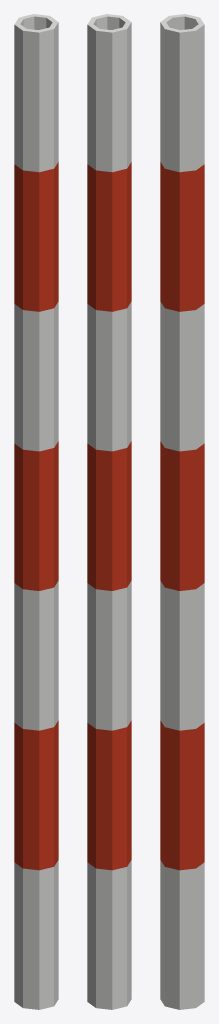
File: SM_Cook_Straw_01.fbx
3 renders of one model, left to right at view 1: azimuth 30°, elevation 25°; view 2: azimuth 210°, elevation 25°; view 3: azimuth 330°, elevation 25°, orthographic.
Parts seen in each view (by area): view 1: SM_Cook_Straw_01; view 2: SM_Cook_Straw_01; view 3: SM_Cook_Straw_01.
Part boxes in pixels (x1,y1,x2,y2): SM_Cook_Straw_01: (14,14,58,1009); SM_Cook_Straw_01: (87,14,131,1009); SM_Cook_Straw_01: (160,14,204,1009).
Size of the model in its own units: 0.00831 by 0.218 by 0.00831.
Materials: 1 (1 with a texture image).
